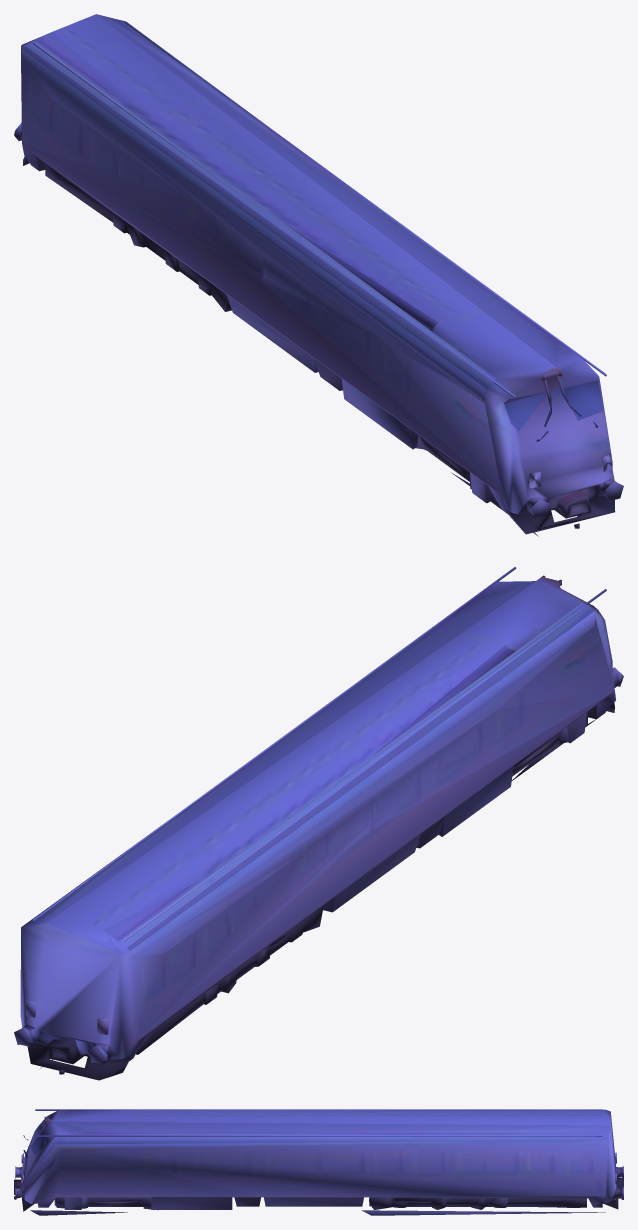
The model's file is model.progressive.glb.
3 views of the same model, one above another, from view 1: azimuth 30°, elevation 25°; view 2: azimuth 150°, elevation 25°; view 3: azimuth 270°, elevation 25° (orthographic). The views are drawn at different scales.
Parts seen in each view (by area): view 1: texture_pbr_20250901; view 2: texture_pbr_20250901; view 3: texture_pbr_20250901.
Boxes of the visible parts, box(x1,y1,x2,y2) form: texture_pbr_20250901: box(14, 14, 623, 536); texture_pbr_20250901: box(14, 566, 623, 1080); texture_pbr_20250901: box(14, 1109, 623, 1215).
Size of the model in its own units: 0.2382 by 0.2962 by 1.9.
1 material, 1 textured.
